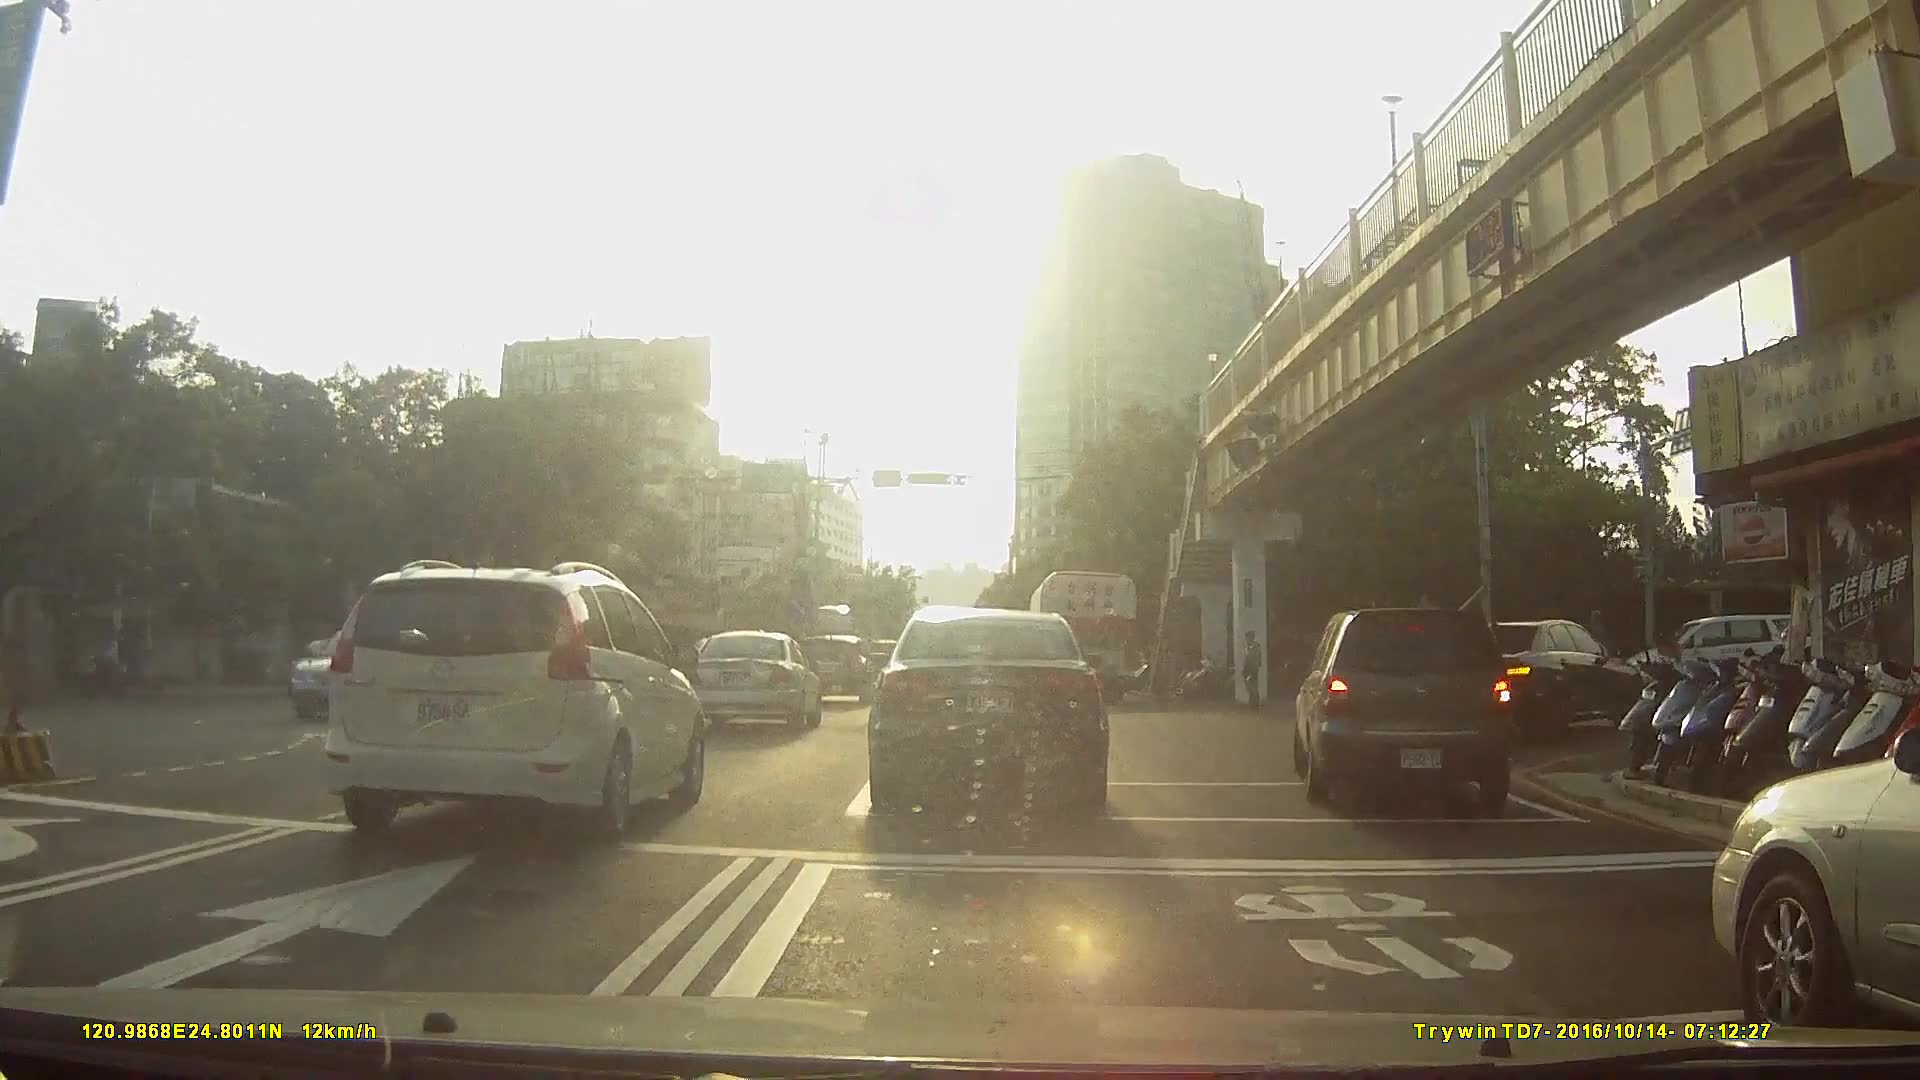pedestrian: (1240, 627, 1271, 707)
vehicle: (322, 558, 708, 846), (1723, 752, 1920, 1035), (871, 595, 1112, 816), (1285, 600, 1528, 812), (1453, 615, 1679, 737), (261, 620, 432, 720), (1028, 563, 1140, 701), (689, 627, 824, 734), (799, 629, 877, 702)
